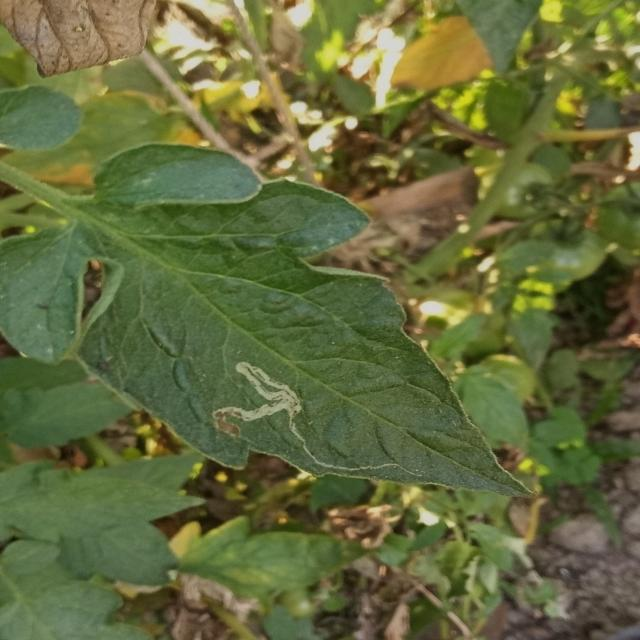Tuta absoluta: (207, 358, 410, 509)
